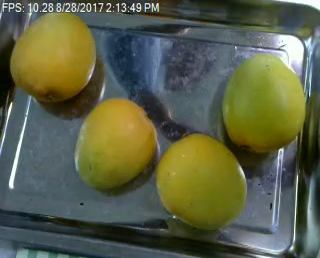Mango: (157, 132, 247, 227), (10, 9, 97, 103), (222, 52, 304, 150), (74, 97, 156, 188)
